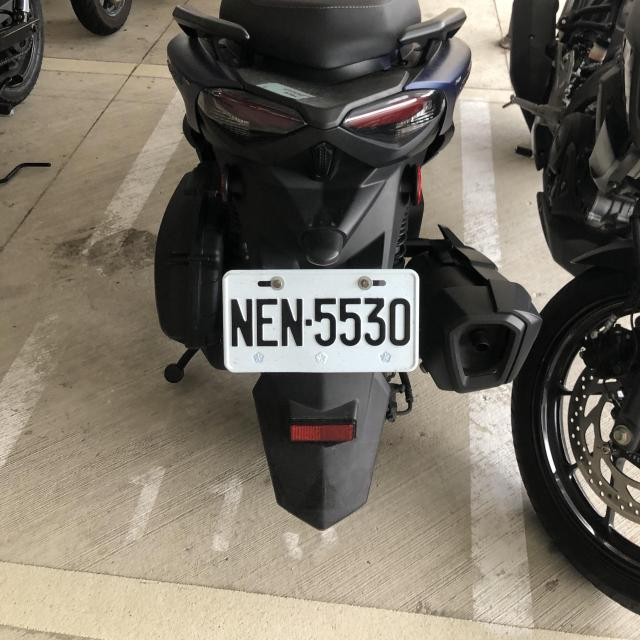W: (222, 266, 420, 376)
